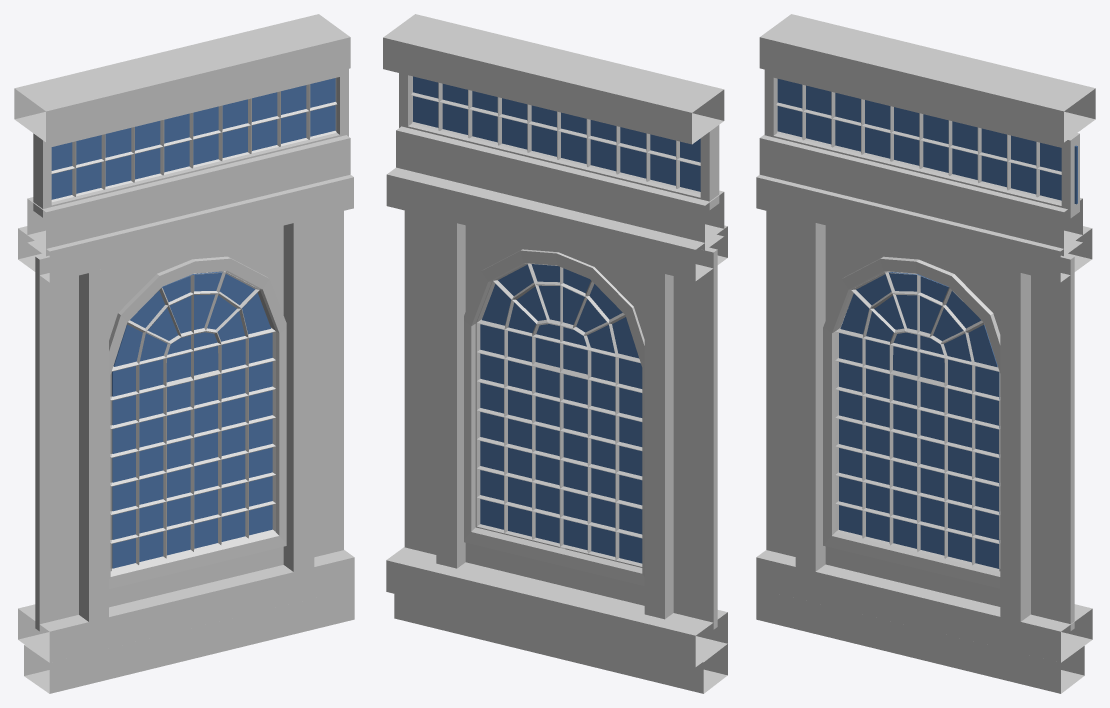
Rendered from Greenhouse Wall2.fbx.
3 renders of one model, left to right at view 1: azimuth 30°, elevation 25°; view 2: azimuth 150°, elevation 25°; view 3: azimuth 330°, elevation 25°, orthographic.
Parts seen in each view (by area): view 1: SingleWindow_Wallpiece, GlassPaneCurve057, WindowFrameCurve018, CurvedWindow_FRAME018; view 2: SingleWindow_Wallpiece, GlassPaneCurve057, WindowFrameCurve018, CurvedWindow_FRAME018; view 3: SingleWindow_Wallpiece, GlassPaneCurve057, WindowFrameCurve018, CurvedWindow_FRAME018.
Part boxes in pixels (box(x1,y1,x2,y2)): SingleWindow_Wallpiece: box(14, 14, 354, 693); GlassPaneCurve057: box(51, 78, 335, 568); WindowFrameCurve018: box(51, 78, 336, 571); CurvedWindow_FRAME018: box(33, 69, 348, 589); SingleWindow_Wallpiece: box(383, 14, 727, 693); GlassPaneCurve057: box(413, 76, 700, 563); WindowFrameCurve018: box(411, 76, 700, 566); CurvedWindow_FRAME018: box(399, 73, 719, 586); SingleWindow_Wallpiece: box(756, 14, 1095, 693); GlassPaneCurve057: box(777, 79, 1077, 568); WindowFrameCurve018: box(776, 84, 1061, 572); CurvedWindow_FRAME018: box(764, 69, 1079, 588).
Bounding box in the file's own units: 193 × 345 × 37.96.
